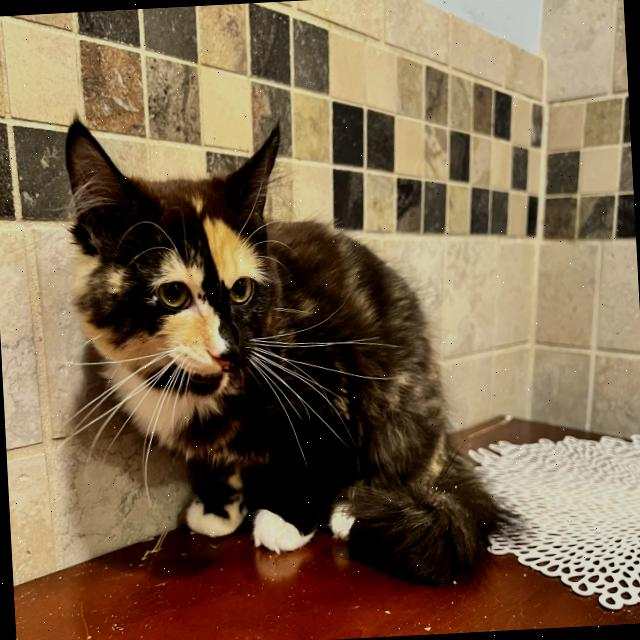calico_cat: (59, 104, 319, 430)
